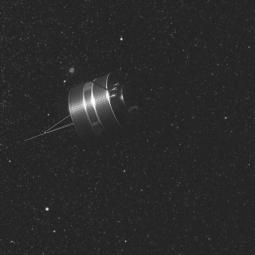double_start: (31, 60, 147, 151)
